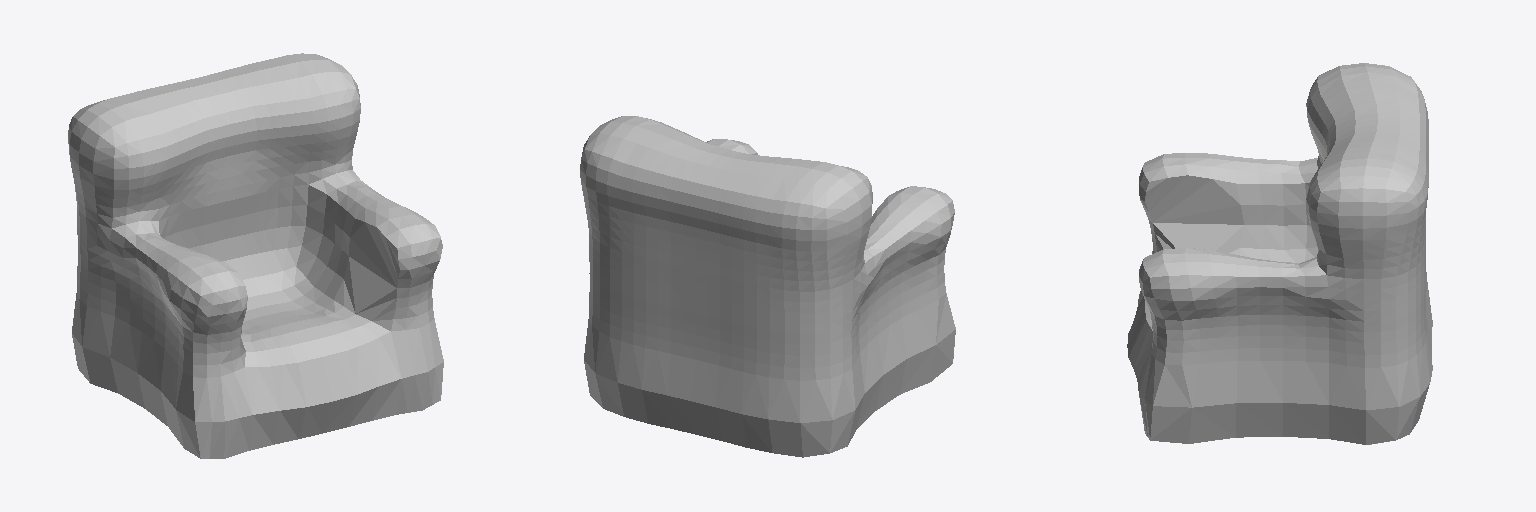
The model's file is Fotel.obj.
3 renders of one model, left to right at view 1: azimuth 30°, elevation 25°; view 2: azimuth 150°, elevation 25°; view 3: azimuth 270°, elevation 25°, orthographic.
Visible parts, largest first — view 1: Fotel_Cube.004; view 2: Fotel_Cube.004; view 3: Fotel_Cube.004.
Part boxes in pixels (bbox=[...]): Fotel_Cube.004: bbox=[68, 53, 443, 458]; Fotel_Cube.004: bbox=[580, 116, 955, 457]; Fotel_Cube.004: bbox=[1127, 63, 1432, 444].
Size of the model in its own units: 2.22 by 2.2 by 2.16.